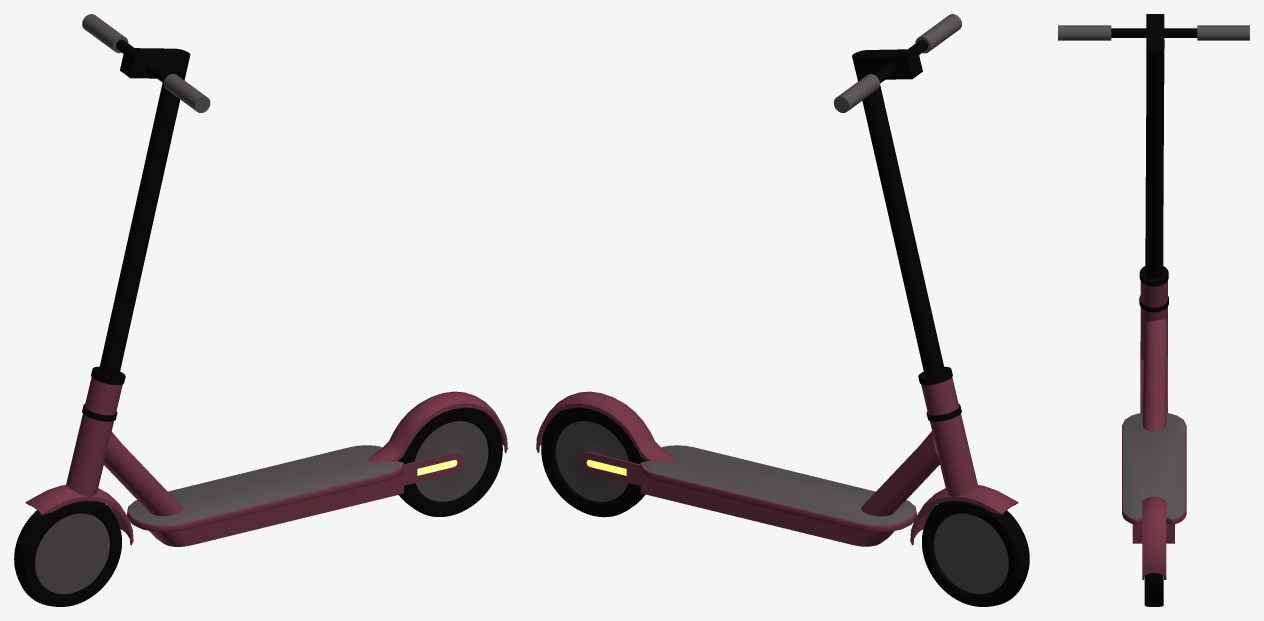
The model's file is SM_Scooter.fbx.
The picture shows the model from 3 angles, left to right: view 1: azimuth 30°, elevation 25°; view 2: azimuth 150°, elevation 25°; view 3: azimuth 270°, elevation 25°; orthographic projection. The views are drawn at different scales.
Parts seen in each view (by area): view 1: Cylinder.015; view 2: Cylinder.015; view 3: Cylinder.015.
Boxes of the visible parts, box(x1,y1,x2,y2) form: Cylinder.015: box(14, 14, 507, 606); Cylinder.015: box(536, 14, 1029, 606); Cylinder.015: box(1058, 14, 1249, 606).
Bounding box in the file's own units: 105 × 112 × 42.48.
